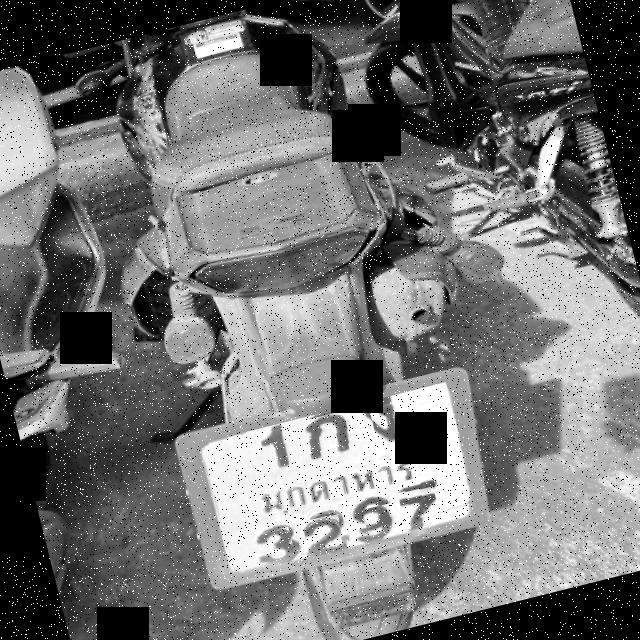letters: (300, 408, 364, 469), (259, 426, 303, 484), (300, 512, 348, 564), (368, 400, 409, 454), (397, 484, 441, 530), (248, 526, 295, 564), (361, 501, 401, 541)
license-plate: (199, 381, 472, 572)
province: (255, 446, 420, 516)
